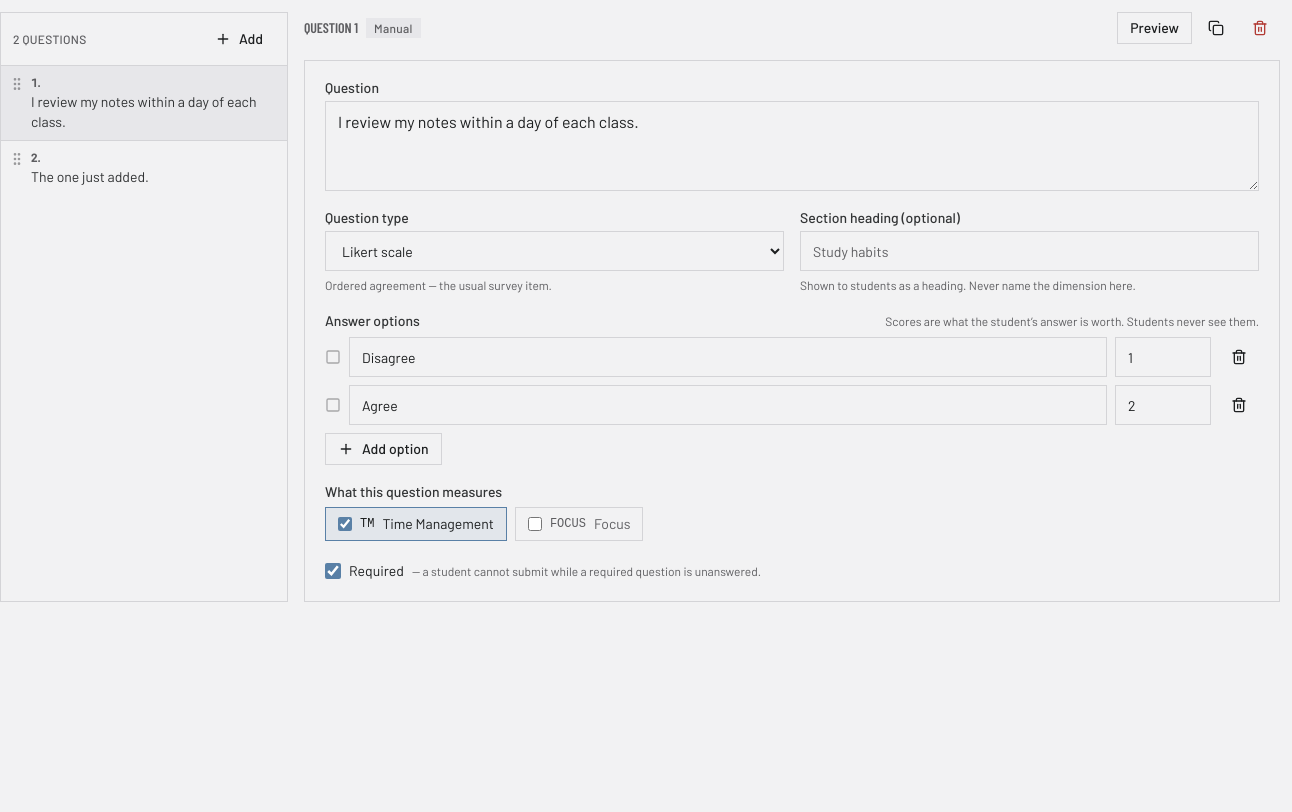
Test case: add, duplicate and delete › moves the editor to the question it just created
expect the text box labelled "Question" holds "I review my notes within a day of each class.": met, box [325, 101, 1259, 191]
Click the button "Add". click: {"x": 239, "y": 39}
box: [203, 23, 275, 55]
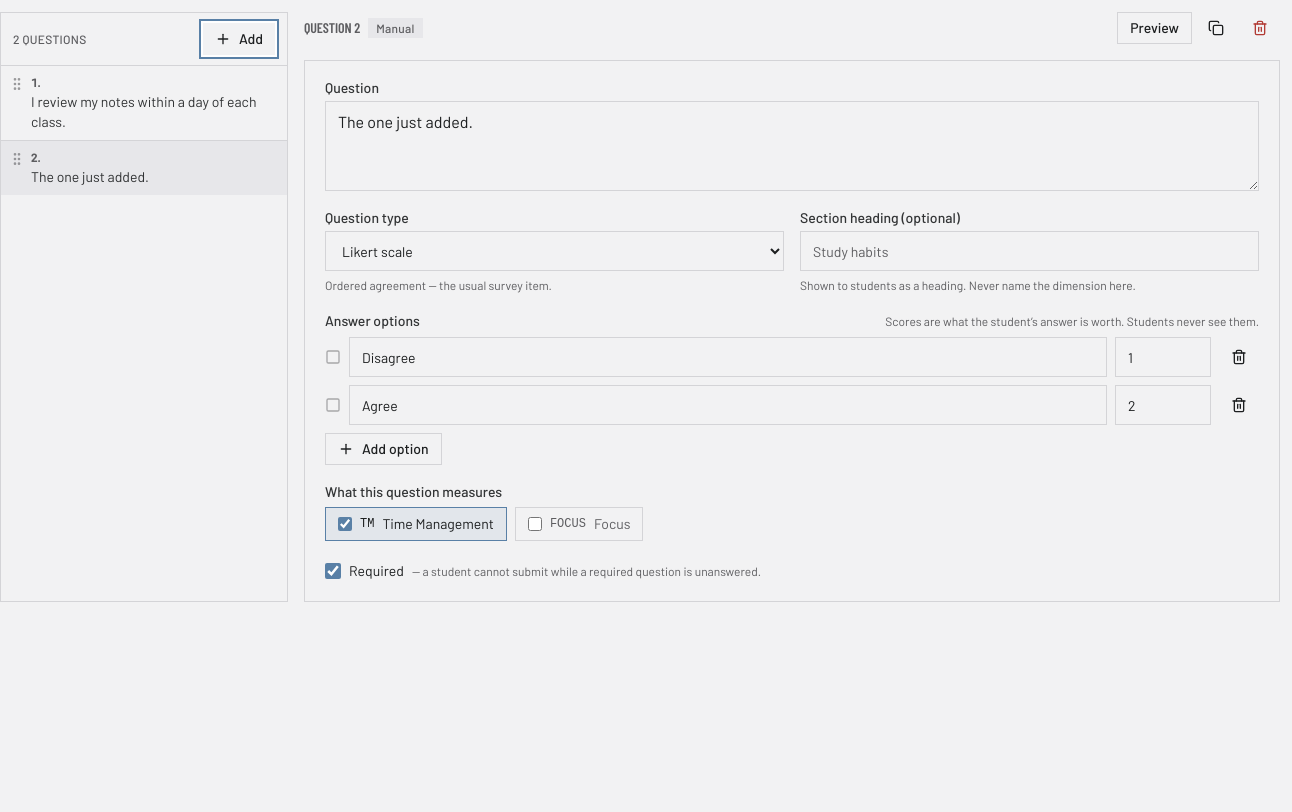
expect the text box showing "The one just added." is shown: met, box [325, 101, 1259, 191]
